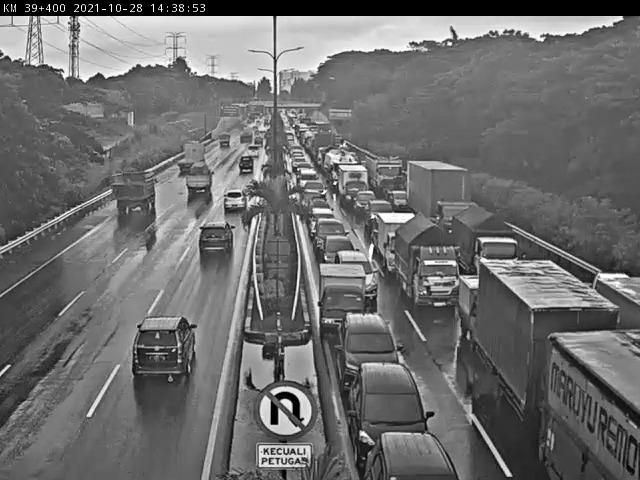big truck: (479, 259, 626, 446), (405, 159, 477, 247), (174, 140, 208, 179), (239, 123, 255, 142)
car: (349, 364, 436, 463), (335, 314, 399, 398), (130, 315, 199, 384), (363, 433, 460, 480), (335, 252, 380, 302), (319, 236, 360, 277), (312, 218, 350, 257), (199, 221, 237, 257), (367, 199, 395, 231), (309, 207, 334, 237), (300, 189, 323, 221), (297, 169, 319, 196), (223, 190, 248, 211), (355, 191, 376, 216), (246, 145, 262, 160), (252, 136, 264, 147)
small truck: (393, 215, 462, 312), (449, 204, 515, 280), (458, 274, 521, 351), (317, 261, 369, 337), (377, 212, 420, 277), (111, 171, 159, 215), (339, 165, 369, 207), (186, 163, 217, 201), (235, 157, 255, 177), (215, 134, 231, 151)
